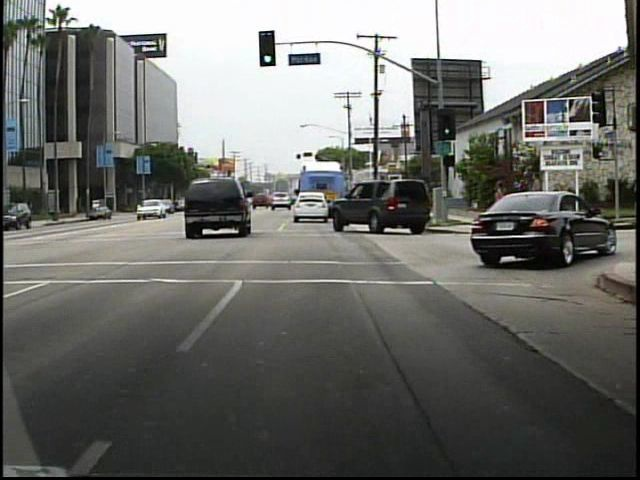person: (483, 175, 516, 238), (524, 171, 548, 227)
